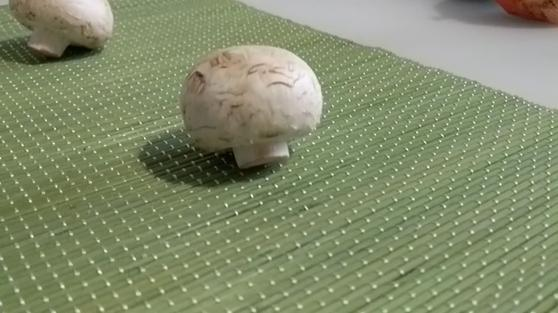champignon: (178, 41, 332, 169), (15, 1, 115, 69)
